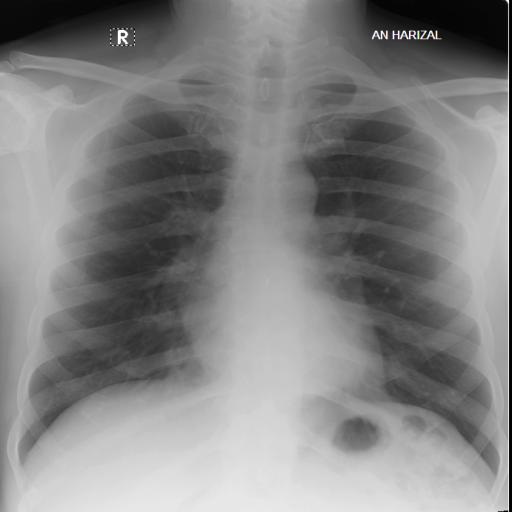normal: (12, 43, 503, 486)
